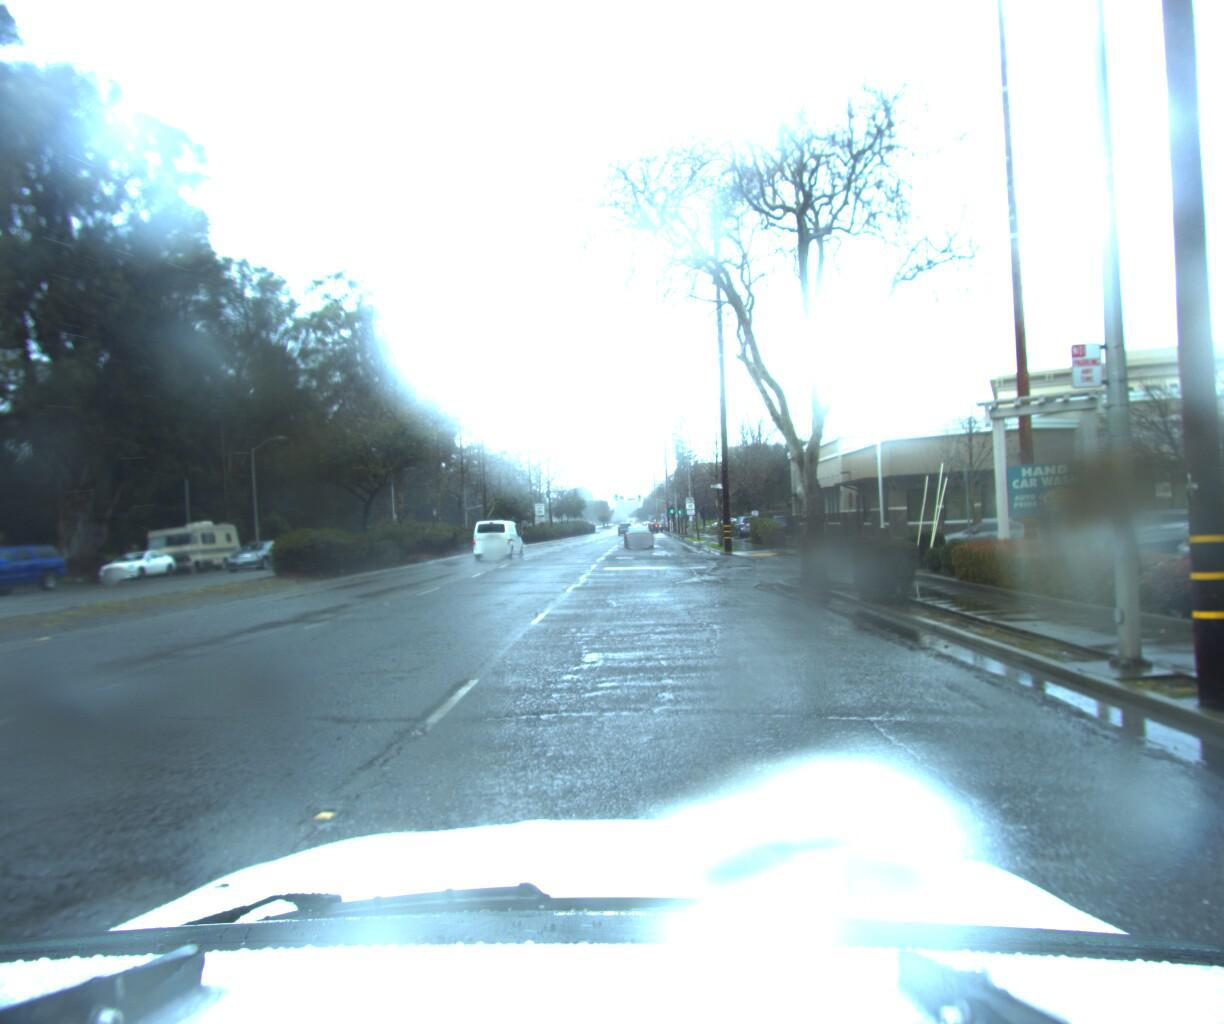car: (1080, 502, 1216, 550), (0, 541, 78, 608), (926, 513, 1045, 553), (1163, 506, 1224, 565), (94, 550, 183, 585), (222, 539, 291, 574), (470, 514, 526, 555), (0, 561, 25, 609), (621, 521, 653, 548), (729, 511, 762, 534), (764, 511, 794, 532)
other_vehicle: (136, 519, 247, 582)
